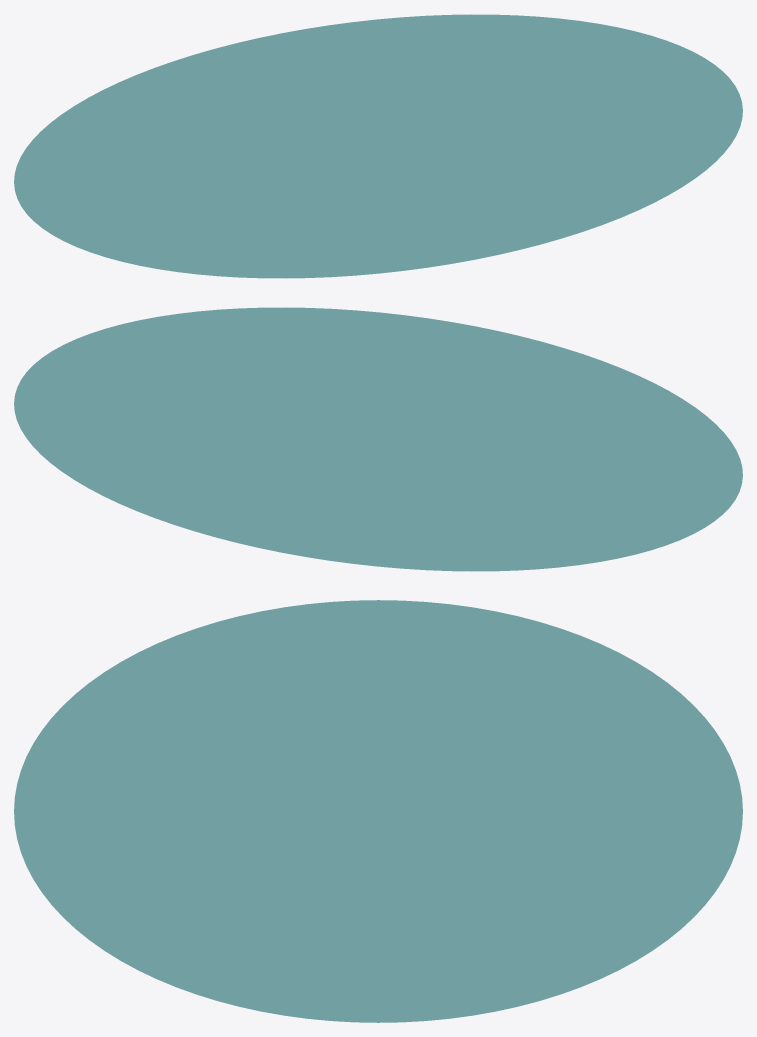
The model's file is Lake.fbx.
3 renders of one model, top to bottom at view 1: azimuth 30°, elevation 25°; view 2: azimuth 150°, elevation 25°; view 3: azimuth 270°, elevation 25°, orthographic. The views are drawn at different scales.
Parts seen in each view (by area): view 1: Lake; view 2: Lake; view 3: Lake.
Boxes of the visible parts, box(x1,y1,x2,y2) form: Lake: box(14, 14, 742, 278); Lake: box(14, 307, 742, 571); Lake: box(14, 600, 742, 1022).
Bounding box in the file's own units: 2360 × 1720 × 0.
